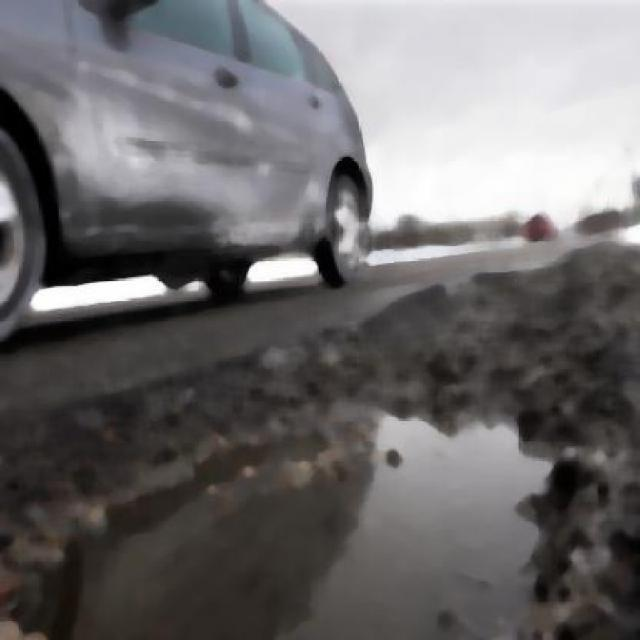pothole: (30, 383, 572, 639)
